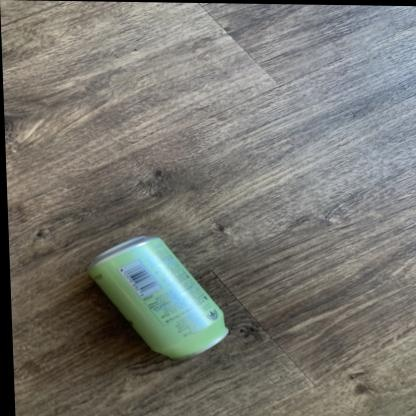trash: (89, 236, 227, 358)
